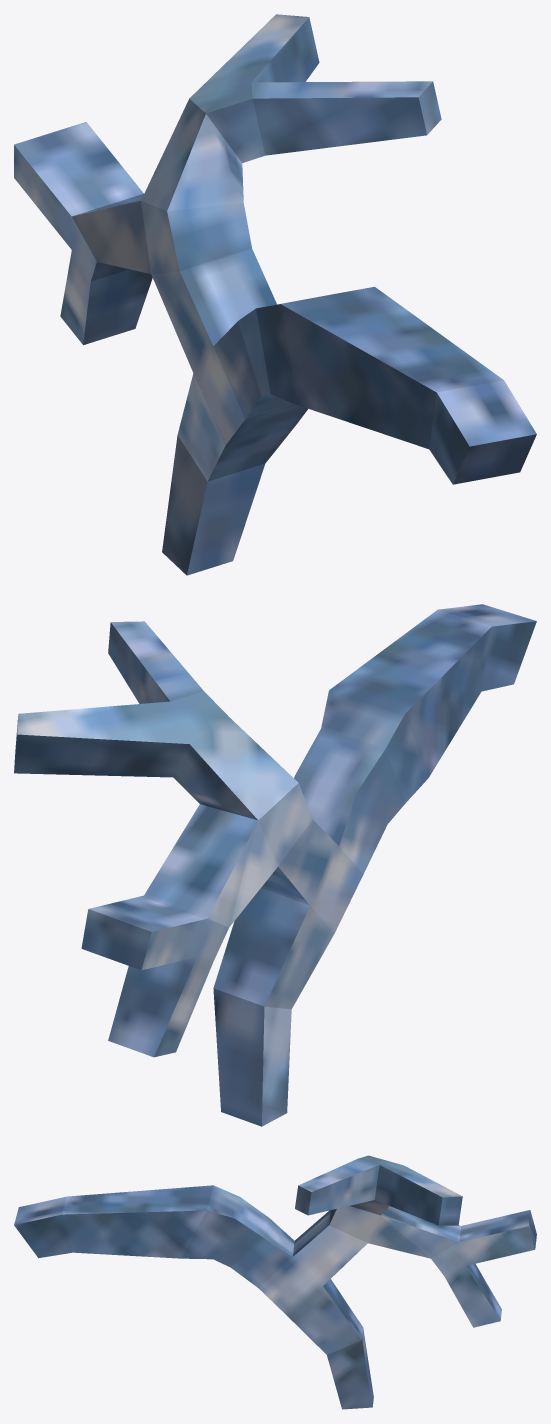
Rendered from wendigoantler.obj.
The picture shows the model from 3 angles, top to bottom: view 1: azimuth 30°, elevation 25°; view 2: azimuth 150°, elevation 25°; view 3: azimuth 270°, elevation 25°; orthographic projection. The views are drawn at different scales.
Parts seen in each view (by area): view 1: Base; view 2: Base; view 3: Base.
Boxes of the visible parts, x1,y1,x2,y2 form: Base: [14, 14, 536, 575]; Base: [14, 604, 536, 1126]; Base: [14, 1155, 536, 1409].
Size of the model in its own units: 0.3729 by 0.6638 by 1.17.
